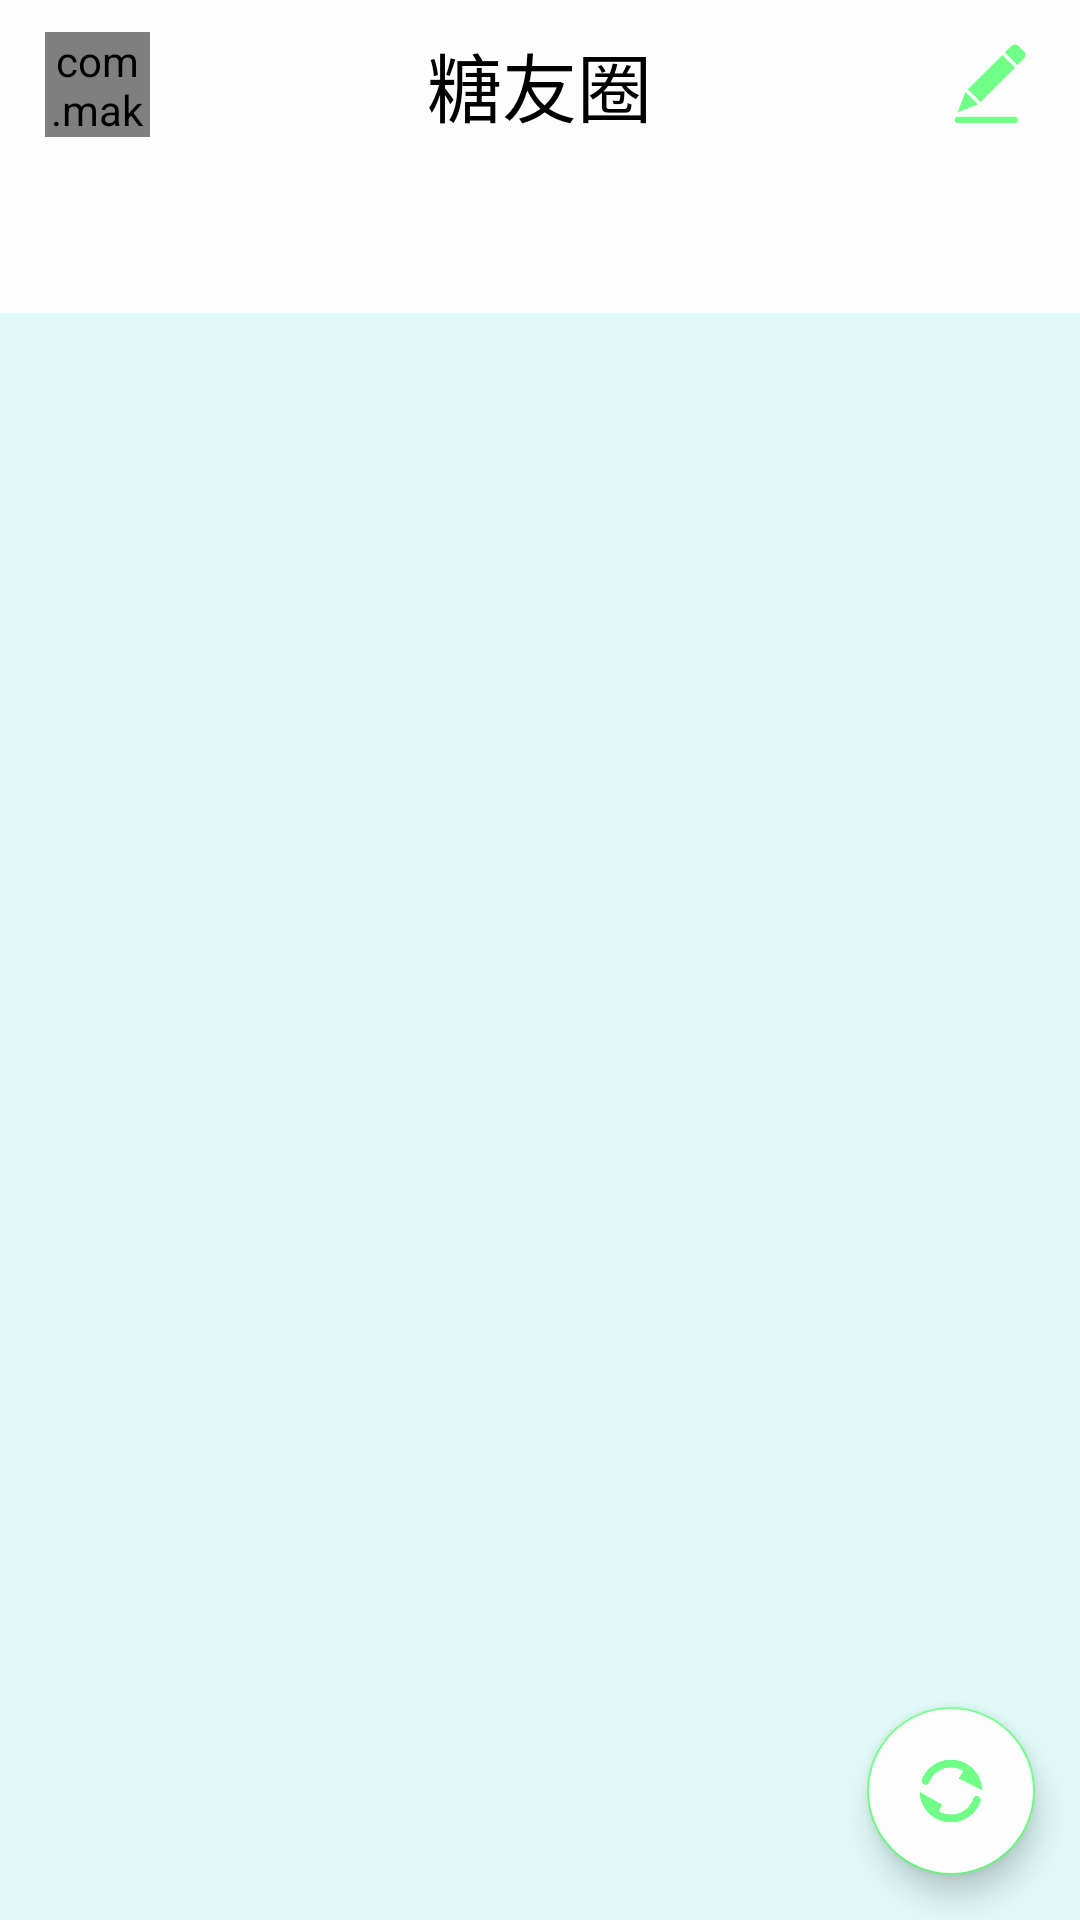

Locate icon controls on the screen. Image size 1080 x 1920, boxes as [x1,y1,x2,y2].
refresh: [867,1707,1035,1875]
